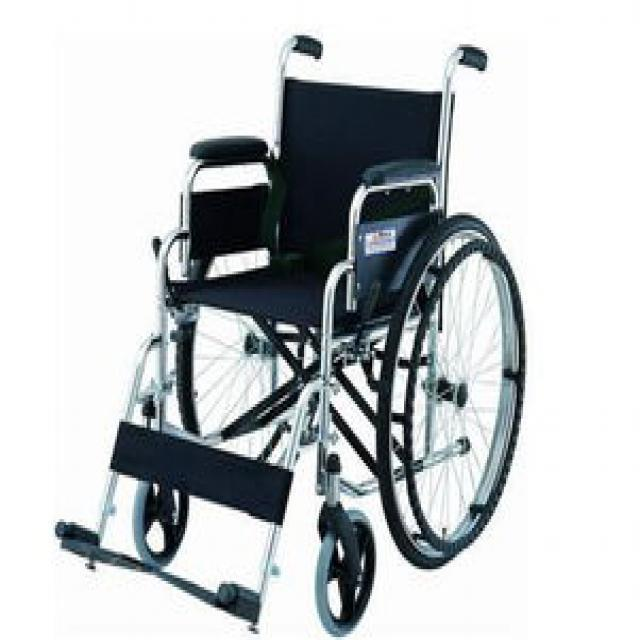wheelchairs: (58, 33, 521, 640)
